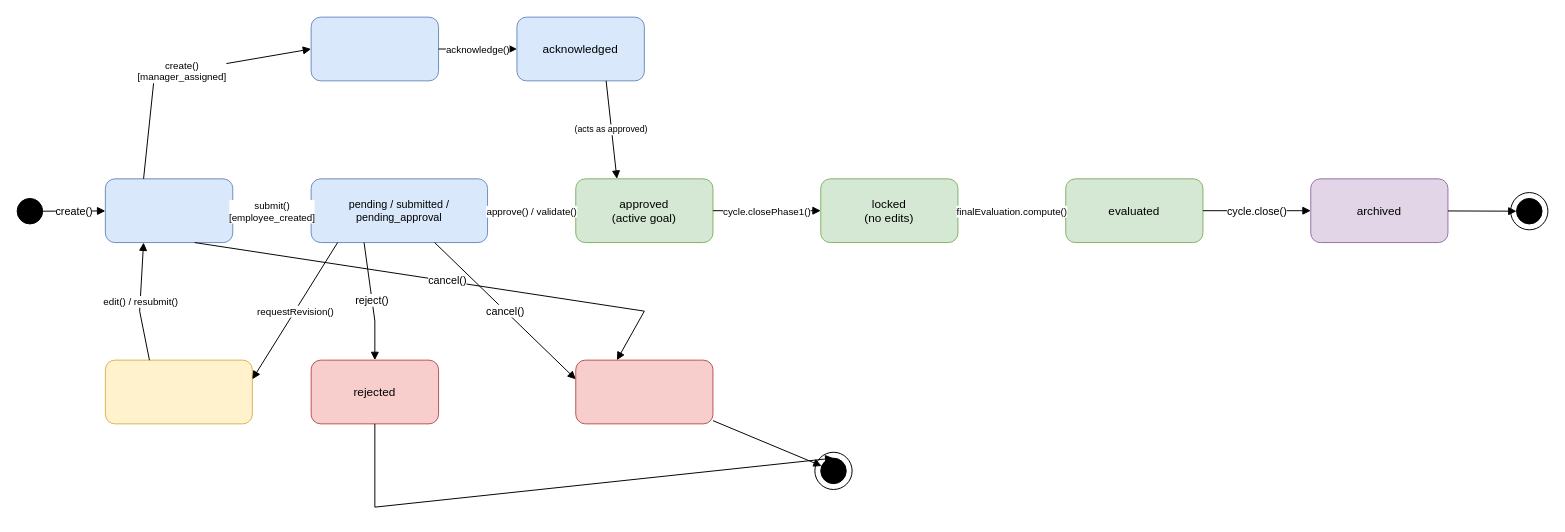
Image size: 1565x532. Some labels were removed from this diagram. The shapes that lost their labels are listed below. From the top down, each one's centre as x and y in pixels, then its label:
At pixel 374 48: "assigned".
At pixel 168 210: "draft".
At pixel 178 391: "revision_requested".
At pixel 644 391: "cancelled".
